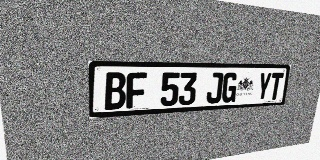3: (178, 72, 197, 105)
5: (160, 72, 180, 107)
B: (104, 72, 126, 110)
F: (126, 72, 147, 109)
G: (221, 72, 238, 103)
J: (206, 72, 224, 104)
T: (268, 72, 284, 100)
Y: (256, 72, 272, 101)
